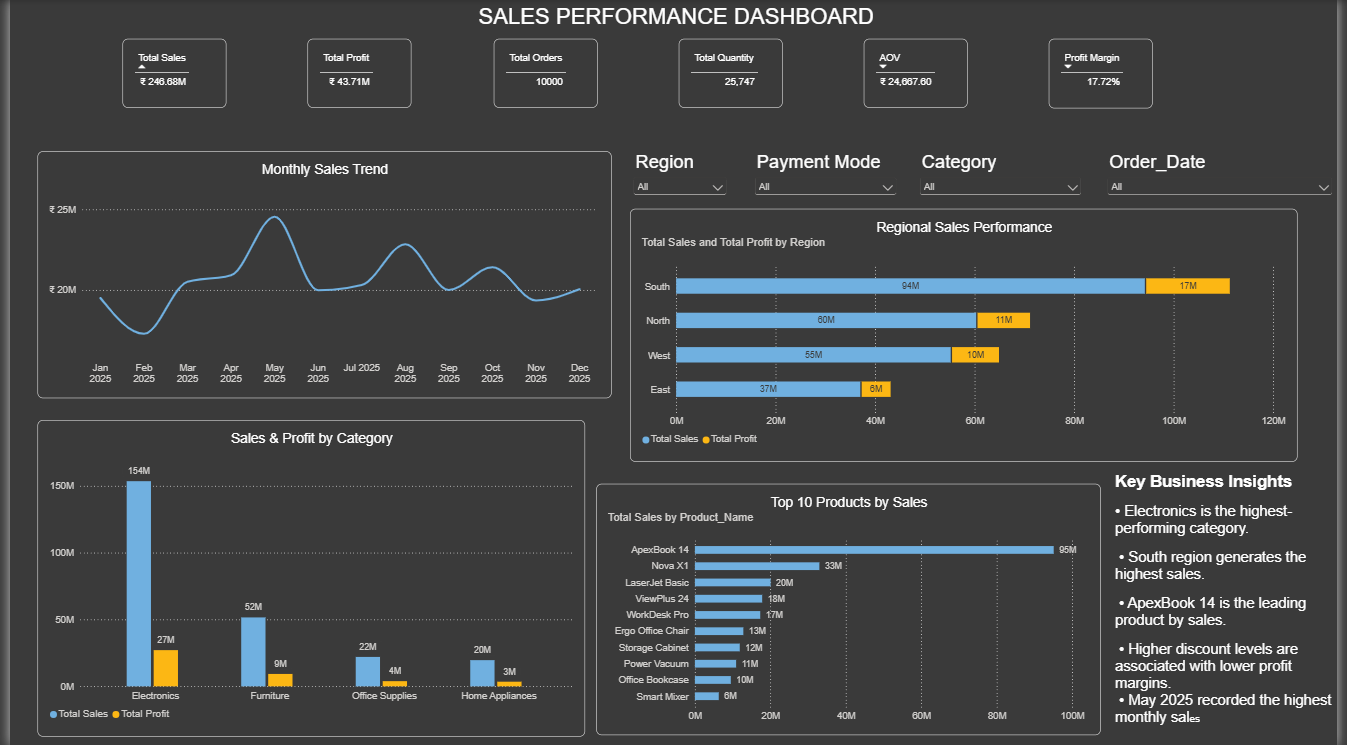

This screenshot's page, from the dashboard's own definition file:
{"tool":"powerbi","page":{"name":"Page 1","canvas":[1920,1080],"ordinal":0},"visuals":[{"type":"tableEx","fields":{"Values":["cleaned_sales_data.Average order value"]},"box":[1236.3,55.6,150,100],"z":4000},{"type":"tableEx","fields":{"Values":["cleaned_sales_data.Profit Margin"]},"box":[1504.6,55.6,150,100.9],"z":5000},{"type":"tableEx","fields":{"Values":["cleaned_sales_data.Total Quantity"]},"box":[967.9,55.6,150,100],"z":5001},{"type":"lineChart","title":"Monthly Sales Trend","fields":{"Category":["DateTable.Month Year"],"Y":["cleaned_sales_data.Total Sales"]},"box":[39.9,218.6,831.1,357.4],"z":5004},{"type":"lineClusteredColumnComboChart","title":"Sales & Profit by Category","fields":{"Category":["cleaned_sales_data.Category"],"Y":["cleaned_sales_data.Total Sales","cleaned_sales_data.Total Profit"]},"box":[39.9,607.3,792.9,458.1],"z":5005},{"type":"barChart","title":"Regional Sales Performance","fields":{"Category":["cleaned_sales_data.Region"],"Y":["cleaned_sales_data.Total Sales","cleaned_sales_data.Total Profit"]},"box":[897,301.9,966.4,366.1],"z":5006},{"type":"clusteredBarChart","title":"Top 10 Products by Sales","fields":{"Category":["cleaned_sales_data.Product_Name"],"Y":["cleaned_sales_data.Total Sales"]},"box":[848.4,701,730.5,364.4],"z":5007},{"type":"slicer","title":"Order Data","fields":{"Values":["cleaned_sales_data.Order_Date"]},"box":[1584.1,218.6,336.6,65.1],"z":5008},{"type":"slicer","title":"Region","fields":{"Values":["cleaned_sales_data.Region"]},"box":[897,218.6,144.8,65.1],"z":5009},{"type":"slicer","fields":{"Values":["cleaned_sales_data.Category"]},"box":[1311.7,218.6,244.3,65.1],"z":5010},{"type":"slicer","fields":{"Values":["cleaned_sales_data.Payment_Mode"]},"box":[1074,218.6,215.3,65.1],"z":5011},{"type":"tableEx","fields":{"Values":["cleaned_sales_data.Total Sales"]},"box":[162.9,56.1,150,100],"z":5013},{"type":"tableEx","fields":{"Values":["cleaned_sales_data.Total Profit"]},"box":[431.2,56.1,150,100],"z":5014},{"type":"textbox","box":[12.7,5.4,1903.8,50.7],"z":5015},{"type":"tableEx","fields":{"Values":["cleaned_sales_data.Total Orders"]},"box":[699.6,56.1,150,100],"z":5016},{"type":"textbox","box":[1599.7,684.1,320.3,369.2],"z":5017}]}

Visuals, with their boxes in screenshot pixels (x1, y1, x2, y2), scaled from the page's 1920x1080 canvas onto the 1347x745 screenshot:
tableEx - cleaned_sales_data.Average order value: (867,38,973,107)
tableEx - cleaned_sales_data.Profit Margin: (1056,38,1161,108)
tableEx - cleaned_sales_data.Total Quantity: (679,38,784,107)
"Monthly Sales Trend" lineChart: (28,151,611,397)
"Sales & Profit by Category" lineClusteredColumnComboChart: (28,419,584,735)
"Regional Sales Performance" barChart: (629,208,1307,461)
"Top 10 Products by Sales" clusteredBarChart: (595,484,1108,735)
"Order Data" slicer: (1111,151,1346,196)
"Region" slicer: (629,151,731,196)
slicer - cleaned_sales_data.Category: (920,151,1092,196)
slicer - cleaned_sales_data.Payment_Mode: (753,151,905,196)
tableEx - cleaned_sales_data.Total Sales: (114,39,220,108)
tableEx - cleaned_sales_data.Total Profit: (303,39,408,108)
textbox: (9,4,1345,39)
tableEx - cleaned_sales_data.Total Orders: (491,39,596,108)
textbox: (1122,472,1346,727)
